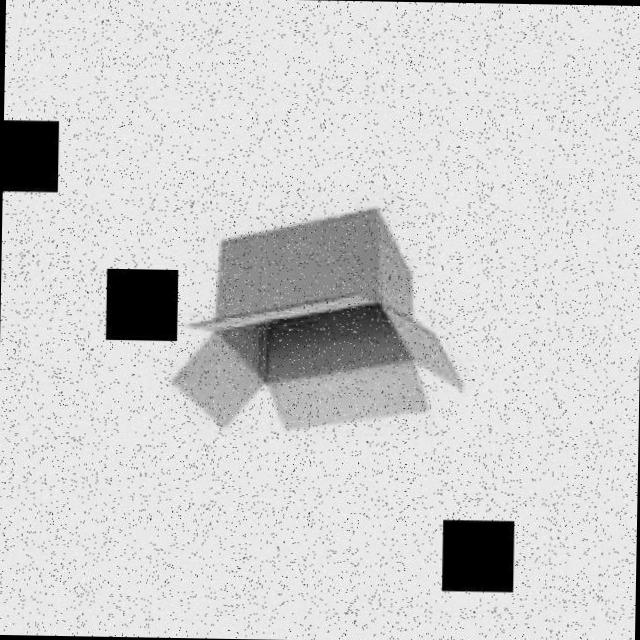box: (80, 164, 477, 447)
